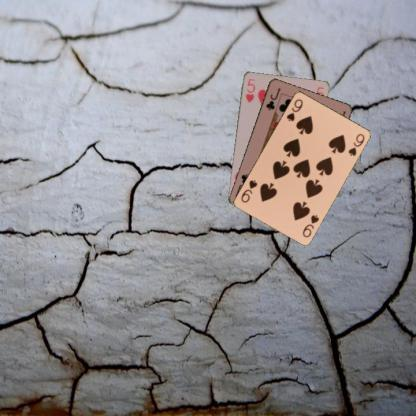5h: (242, 76, 257, 103)
9s: (300, 212, 320, 239), (284, 96, 304, 122)
Jc: (262, 85, 282, 111)
